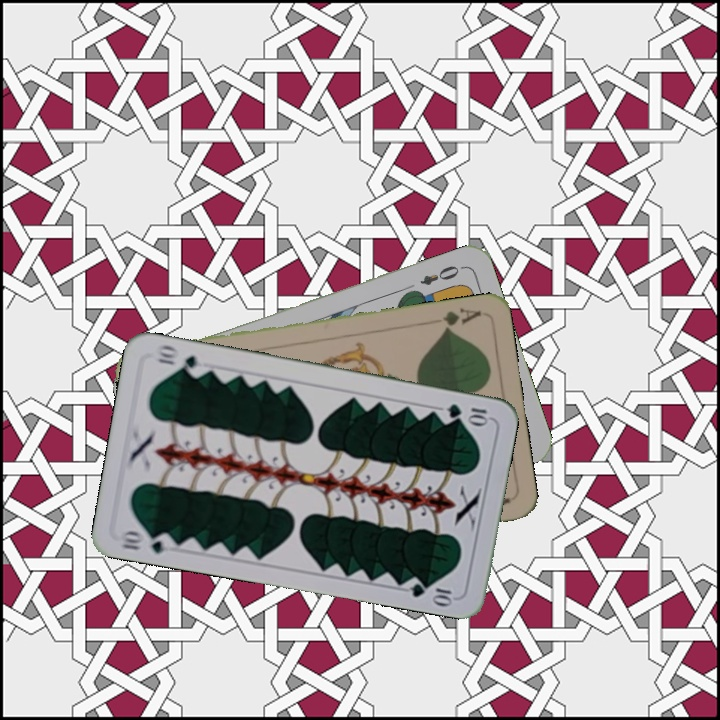EO: (416, 261, 466, 288)
G10: (116, 526, 176, 556), (443, 399, 492, 426)
GA: (438, 304, 484, 334)
